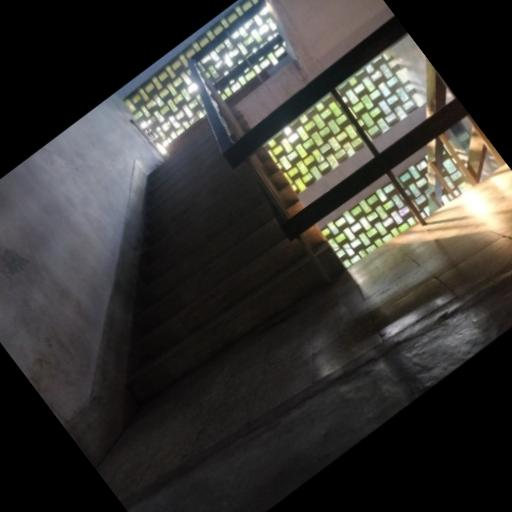stairs: (128, 120, 323, 402)
